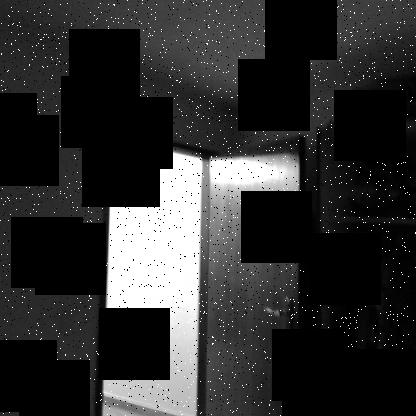Porte: (90, 124, 314, 415)
